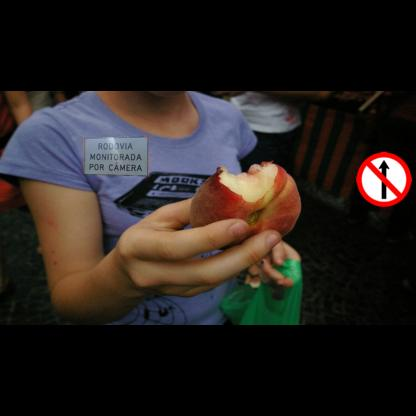I-E: (84, 136, 148, 177)
R-3: (356, 152, 412, 207)
